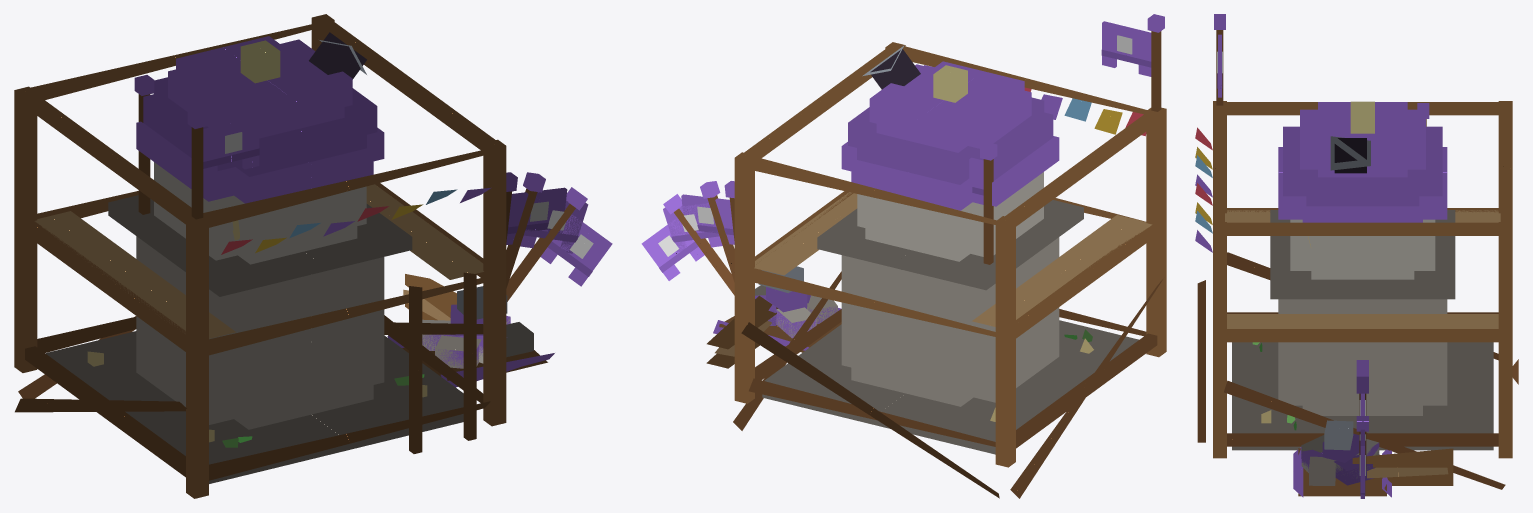
Rendered from moth-research_lod1.glb.
3 views of the same model, side by side, from view 1: azimuth 30°, elevation 25°; view 2: azimuth 150°, elevation 25°; view 3: azimuth 270°, elevation 25° (orthographic). The views are drawn at different scales.
Visible parts, largest first — view 1: scaffold-mesh, built-mesh, dismantle-75-mesh, dismantle-50-mesh, scaffold-banner, dismantle-25-mesh, dismantle-25-banner, dismantle-75-banner, scaffold-flag-pole, dismantle-25-flag-pole, dismantle-50-banner, dismantle-50-flag-pole (+1 smaller); view 2: scaffold-mesh, built-mesh, dismantle-75-mesh, dismantle-50-mesh, scaffold-banner, dismantle-25-mesh, dismantle-25-banner, dismantle-75-banner, flag-pole, dismantle-50-banner, scaffold-flag-pole, dismantle-25-flag-pole (+2 smaller); view 3: scaffold-mesh, built-mesh, dismantle-75-mesh, dismantle-50-mesh, dismantle-25-mesh, scaffold-flag-pole.
Part boxes in pixels (left/top/right/bottom): scaffold-mesh: left=14, top=14, right=506, bottom=498; built-mesh: left=136, top=32, right=412, bottom=442; dismantle-75-mesh: left=46, top=162, right=510, bottom=464; dismantle-50-mesh: left=234, top=293, right=554, bottom=441; scaffold-banner: left=203, top=116, right=259, bottom=179; dismantle-25-mesh: left=234, top=286, right=553, bottom=428; dismantle-25-banner: left=540, top=215, right=612, bottom=286; dismantle-75-banner: left=506, top=187, right=567, bottom=244; scaffold-flag-pole: left=187, top=108, right=207, bottom=219; dismantle-25-flag-pole: left=506, top=187, right=587, bottom=301; dismantle-50-banner: left=520, top=199, right=588, bottom=253; dismantle-50-flag-pole: left=506, top=172, right=545, bottom=288; scaffold-mesh: left=706, top=42, right=1166, bottom=498; built-mesh: left=817, top=45, right=1092, bottom=406; dismantle-75-mesh: left=716, top=172, right=1138, bottom=453; dismantle-50-mesh: left=713, top=285, right=1091, bottom=454; scaffold-banner: left=1101, top=21, right=1151, bottom=76; dismantle-25-mesh: left=715, top=266, right=995, bottom=453; dismantle-25-banner: left=641, top=218, right=704, bottom=280; dismantle-75-banner: left=681, top=194, right=734, bottom=244; flag-pole: left=980, top=142, right=997, bottom=264; dismantle-50-banner: left=663, top=203, right=722, bottom=252; scaffold-flag-pole: left=1147, top=14, right=1164, bottom=111; dismantle-25-flag-pole: left=663, top=194, right=734, bottom=295; scaffold-mesh: left=1195, top=101, right=1518, bottom=489; built-mesh: left=1252, top=101, right=1455, bottom=430; dismantle-75-mesh: left=1232, top=210, right=1493, bottom=492; dismantle-50-mesh: left=1260, top=343, right=1391, bottom=497; dismantle-25-mesh: left=1293, top=420, right=1386, bottom=491; scaffold-flag-pole: left=1214, top=14, right=1225, bottom=105.
Size of the model in its own units: 2.45 by 1.92 by 1.61.
